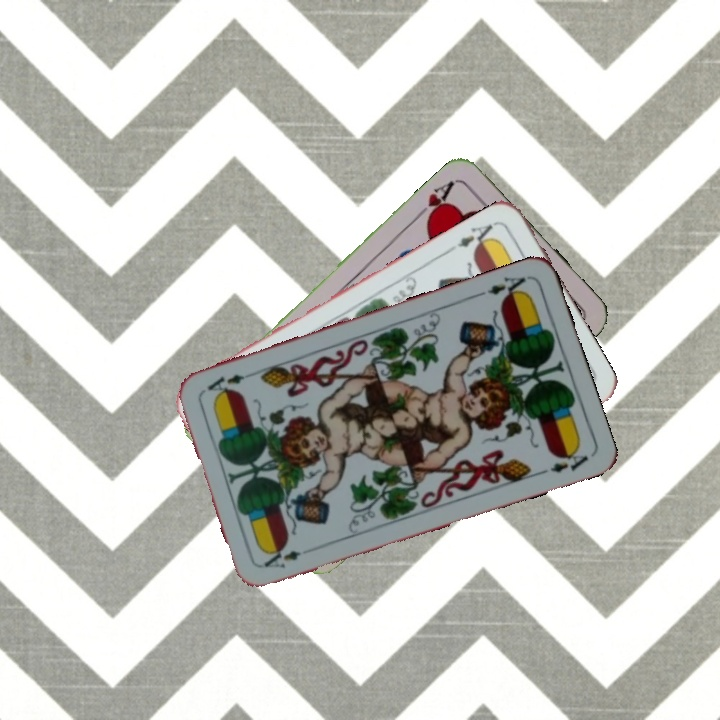EA: (453, 217, 500, 253), (483, 272, 531, 303), (260, 544, 304, 571)
HA: (412, 176, 460, 226)
